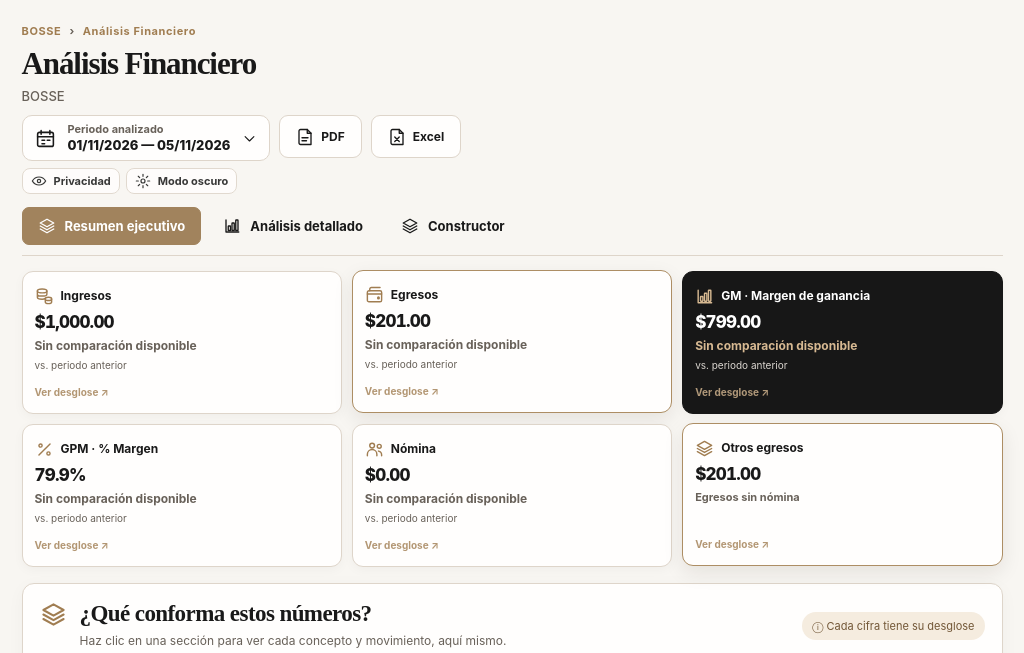
Test: El desglose del GM conserva el total oficial y presenta sus componentes
Click the button with aria-label "Ver desglose de GM" at point(842, 343), box [682,271,1002,414]
(page scrolled)
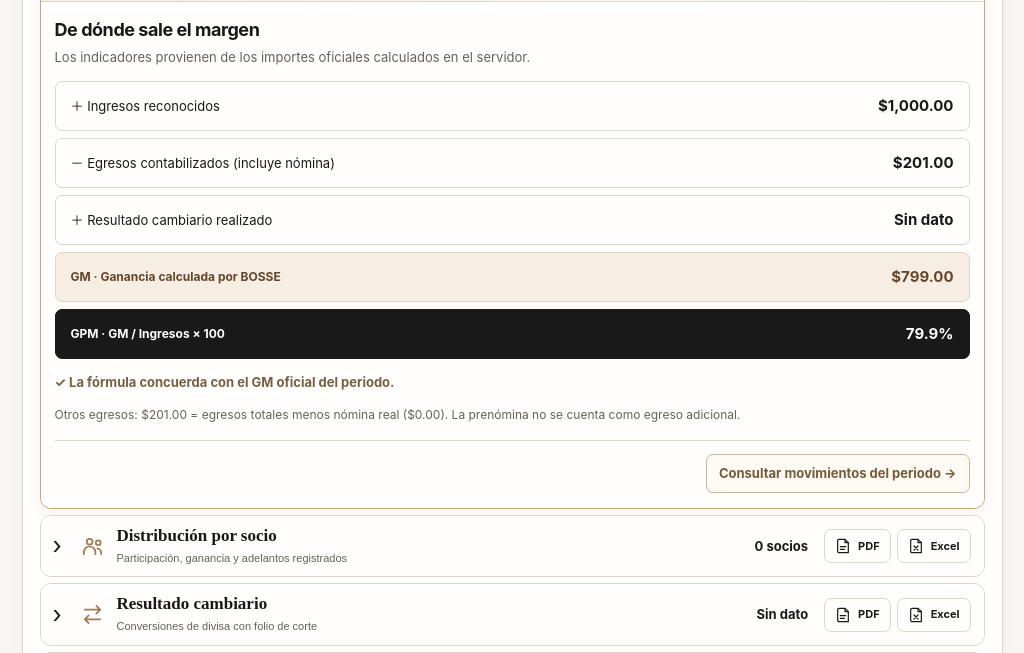
Expected: the heading "De dónde sale el margen" is shown, [54,19,259,40]
Expected: the text "GM · Ganancia calculada por BOSSE" is shown, [70,268,281,286]
Expected: the text "✓ La fórmula concuerda con el GM oficial del periodo." is shown, [54,374,394,390]
